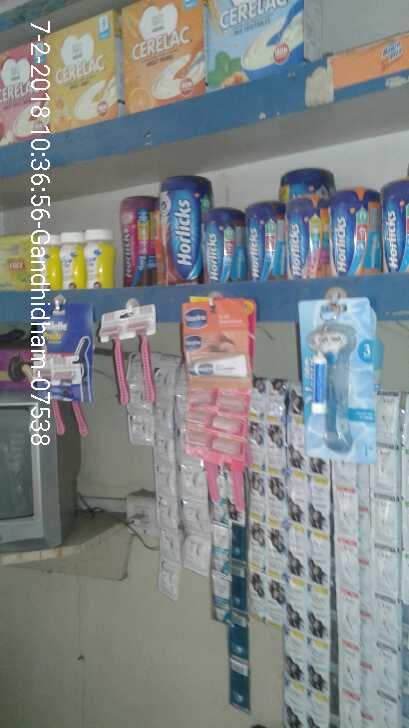venus: (304, 296, 383, 461)
